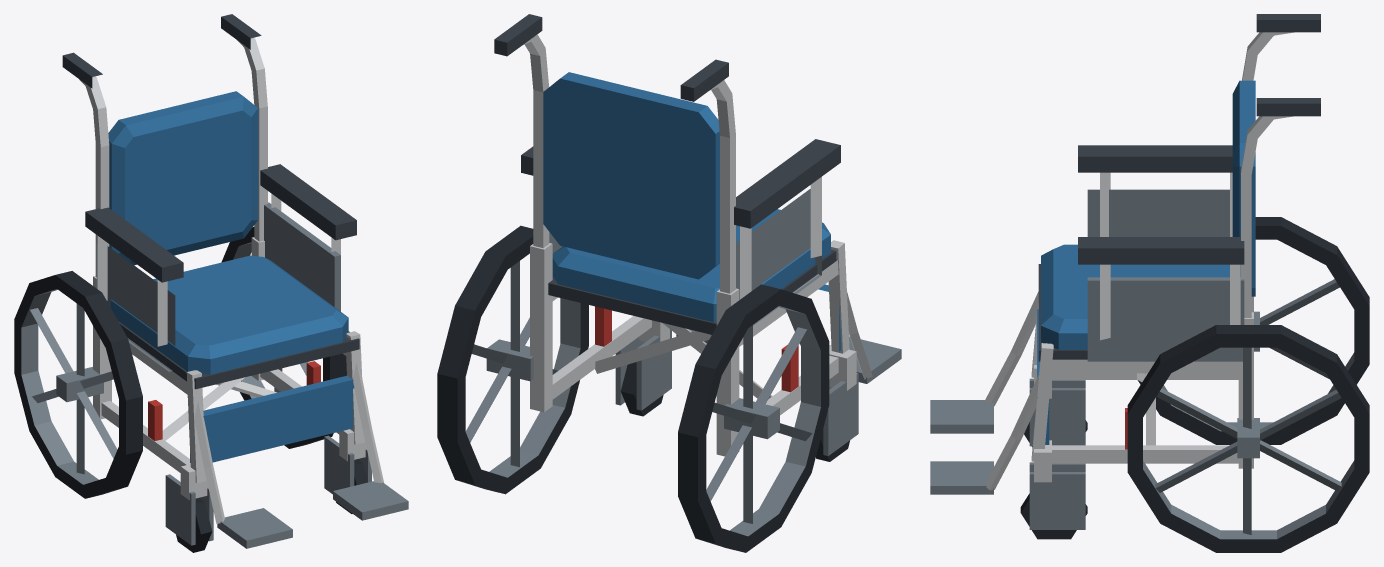
Rendered from wheelchair-0584dc.glb.
3 views of the same model, side by side, from view 1: azimuth 30°, elevation 25°; view 2: azimuth 150°, elevation 25°; view 3: azimuth 270°, elevation 25° (orthographic). The views are drawn at different scales.
Visible parts, largest first — view 1: wheelchair, backrest, cushion, wheel-r, swivel-r, swivel-l, plate-l, plate-r, wheel-l, footrest-r, footrest-l, castor-r; view 2: backrest, wheelchair, wheel-r, wheel-l, cushion, swivel-r, swivel-l, plate-r, castor-l, footrest-r; view 3: wheelchair, wheel-l, wheel-r, backrest, cushion, swivel-l, swivel-r, plate-r, plate-l, footrest-l, footrest-r, castor-l.
Boxes of the visible parts, <box> form: wheelchair: <box>85,164,364,483</box>; backrest: <box>62,14,267,276</box>; cushion: <box>110,255,348,374</box>; wheel-r: <box>14,271,142,498</box>; swivel-r: <box>165,464,213,545</box>; swivel-l: <box>324,429,371,494</box>; plate-l: <box>333,481,408,520</box>; plate-r: <box>217,508,292,548</box>; wheel-l: <box>221,227,346,448</box>; footrest-r: <box>194,401,224,523</box>; footrest-l: <box>352,363,383,483</box>; castor-r: <box>176,498,212,552</box>; backrest: <box>494,14,735,293</box>; wheelchair: <box>521,139,849,456</box>; wheel-r: <box>678,284,829,552</box>; wheel-l: <box>437,225,588,494</box>; cushion: <box>552,209,830,322</box>; swivel-r: <box>823,345,858,455</box>; swivel-l: <box>615,320,671,410</box>; plate-r: <box>849,336,901,383</box>; castor-l: <box>620,362,663,416</box>; footrest-r: <box>847,292,872,379</box>; wheelchair: <box>1031,145,1253,468</box>; wheel-l: <box>1127,325,1369,552</box>; wheel-r: <box>1137,217,1369,444</box>; backrest: <box>1232,14,1320,317</box>; cushion: <box>1041,244,1229,349</box>; swivel-l: <box>1029,440,1085,529</box>; swivel-r: <box>1029,365,1085,446</box>; plate-r: <box>930,400,993,433</box>; plate-l: <box>930,461,993,494</box>; footrest-l: <box>984,374,1038,490</box>; footrest-r: <box>985,291,1038,406</box>; castor-l: <box>1020,493,1087,539</box>.
Bounding box in the file's own units: 0.668 × 1.08 × 0.9825.
